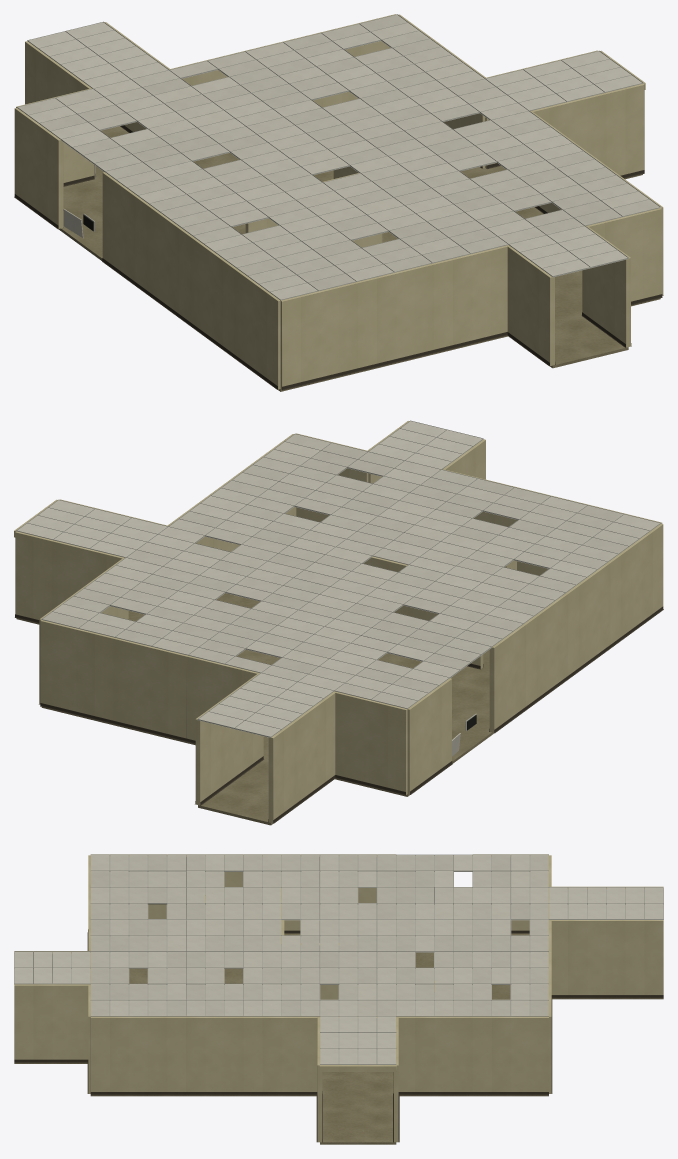
Rendered from short_office_core.gltf.
3 renders of one model, top to bottom at view 1: azimuth 30°, elevation 25°; view 2: azimuth 150°, elevation 25°; view 3: azimuth 270°, elevation 25°, orthographic. The views are drawn at different scales.
Visible parts, largest first — view 1: short_office_core; view 2: short_office_core; view 3: short_office_core.
Part boxes in pixels (bbox=[...]): short_office_core: bbox=[14, 14, 663, 391]; short_office_core: bbox=[14, 420, 663, 825]; short_office_core: bbox=[14, 854, 663, 1144].
Bounding box in the file's own units: 16.04 × 2.83 × 20.76.
6 materials, 6 textured.
